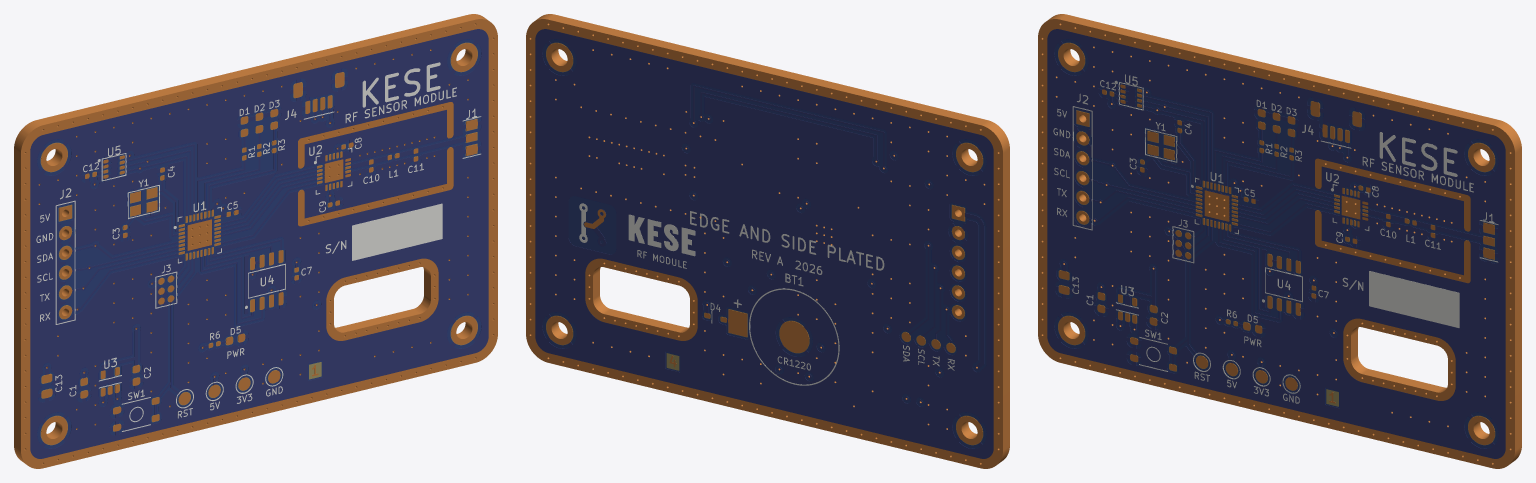
The model's file is rf_module.glb.
3 renders of one model, left to right at view 1: azimuth 30°, elevation 25°; view 2: azimuth 150°, elevation 25°; view 3: azimuth 330°, elevation 25°, orthographic.
Parts seen in each view (by area): view 1: Copper_GND, Top Solder Mask, Board_dielectric 1, Top Silkscreen, Copper_+3V3, Copper_+5V; view 2: Copper_GND, Bottom Solder Mask, Board_dielectric 3, Bottom Silkscreen, Copper_+5V, Copper_VBAT; view 3: Copper_GND, Top Solder Mask, Board_dielectric 1, Top Silkscreen, Copper_+3V3, Copper_+5V.
Boxes of the visible parts, <box> form: Copper_GND: <box>14,14,497,468</box>; Top Solder Mask: <box>30,29,488,458</box>; Board_dielectric 1: <box>38,39,480,448</box>; Top Silkscreen: <box>36,62,481,431</box>; Copper_+3V3: <box>92,99,345,390</box>; Copper_+5V: <box>41,205,220,403</box>; Copper_GND: <box>526,14,1009,468</box>; Bottom Solder Mask: <box>535,29,993,458</box>; Board_dielectric 3: <box>543,39,985,448</box>; Bottom Silkscreen: <box>579,203,954,385</box>; Copper_+5V: <box>807,205,983,403</box>; Copper_VBAT: <box>720,309,747,336</box>; Copper_GND: <box>1038,14,1521,468</box>; Top Solder Mask: <box>1047,29,1505,458</box>; Board_dielectric 1: <box>1055,39,1497,448</box>; Top Silkscreen: <box>1053,74,1498,403</box>; Copper_+3V3: <box>1109,89,1362,383</box>; Copper_+5V: <box>1059,110,1237,375</box>.
Size of the model in its own units: 0.064 by 0.044 by 0.00164.
